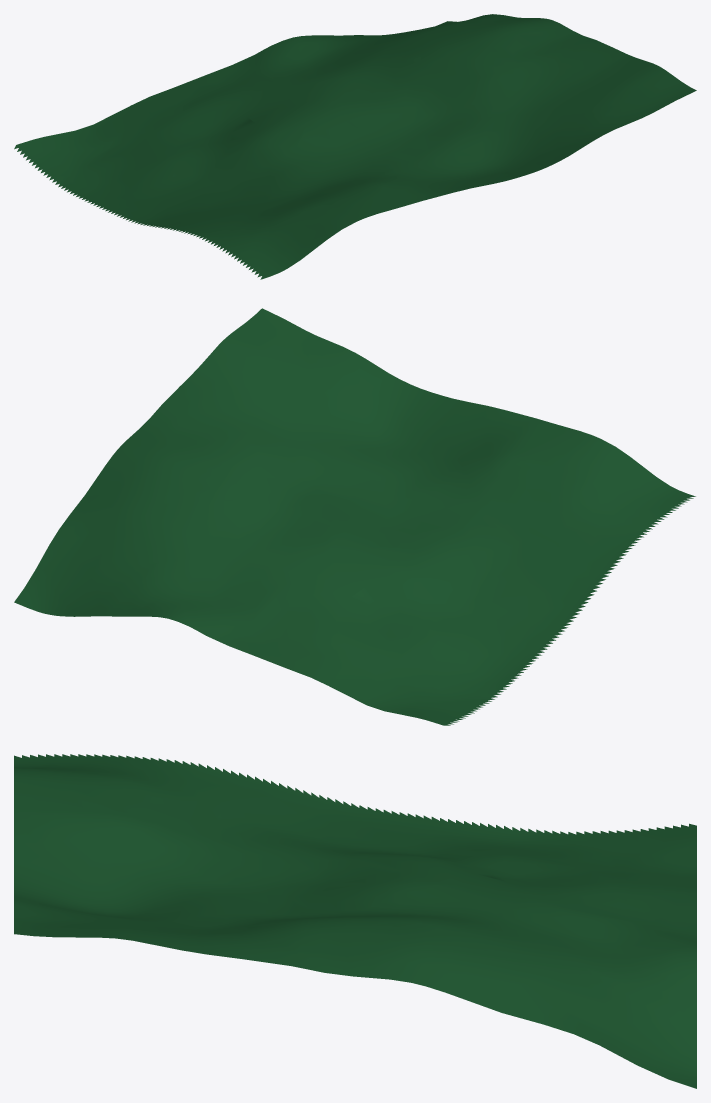
Rendered from payo_land_x1_ym3_lod2.glb.
The picture shows the model from 3 angles, top to bottom: view 1: azimuth 30°, elevation 25°; view 2: azimuth 150°, elevation 25°; view 3: azimuth 270°, elevation 25°; orthographic projection. The views are drawn at different scales.
Visible parts, largest first — view 1: payo_land_x1_ym3; view 2: payo_land_x1_ym3; view 3: payo_land_x1_ym3.
Boxes of the visible parts, x1,y1,x2,y2 form: payo_land_x1_ym3: (14, 14, 696, 279); payo_land_x1_ym3: (14, 308, 695, 725); payo_land_x1_ym3: (14, 754, 696, 1088).
Bounding box in the file's own units: 258 × 78.12 × 255.
